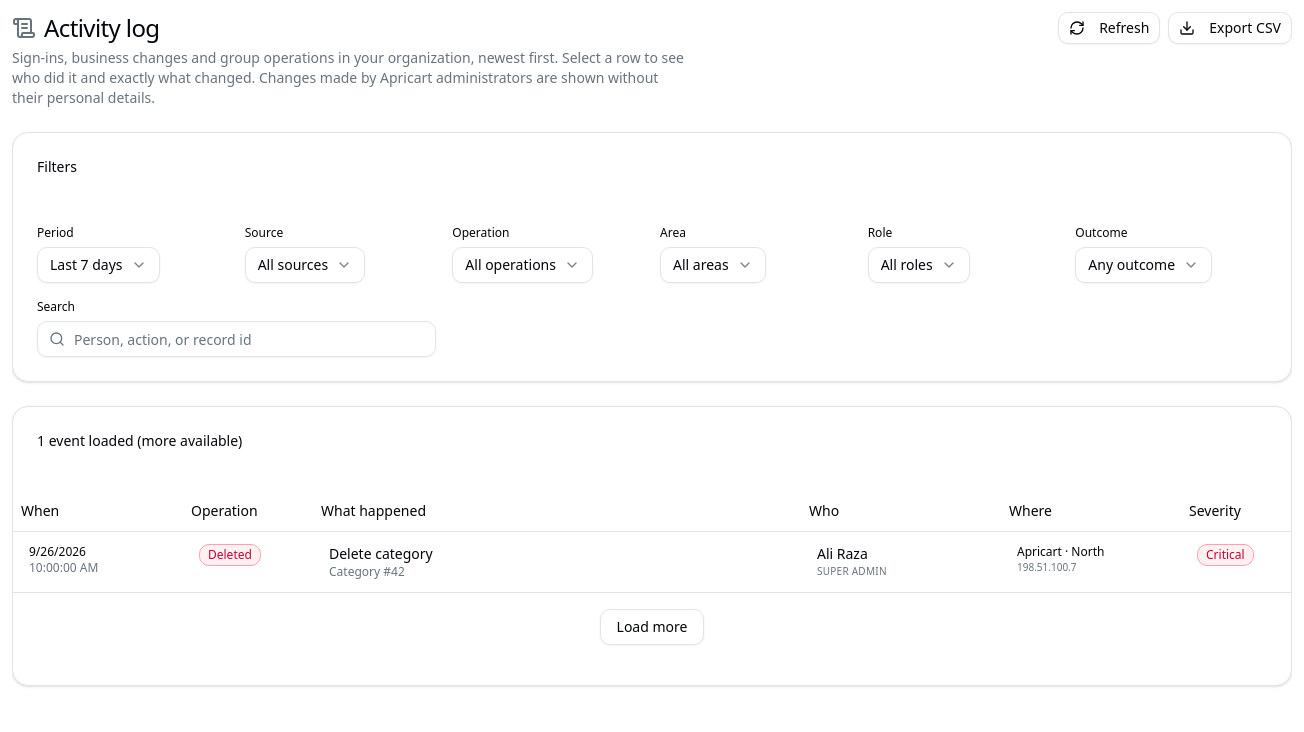
paging › appends the next page rather than replacing the first
Expected: the text "1 event loaded (more available)" is shown, [37,431,242,451]
Click the button "Load more" at coordinates (652, 626), box [600,608,704,644]
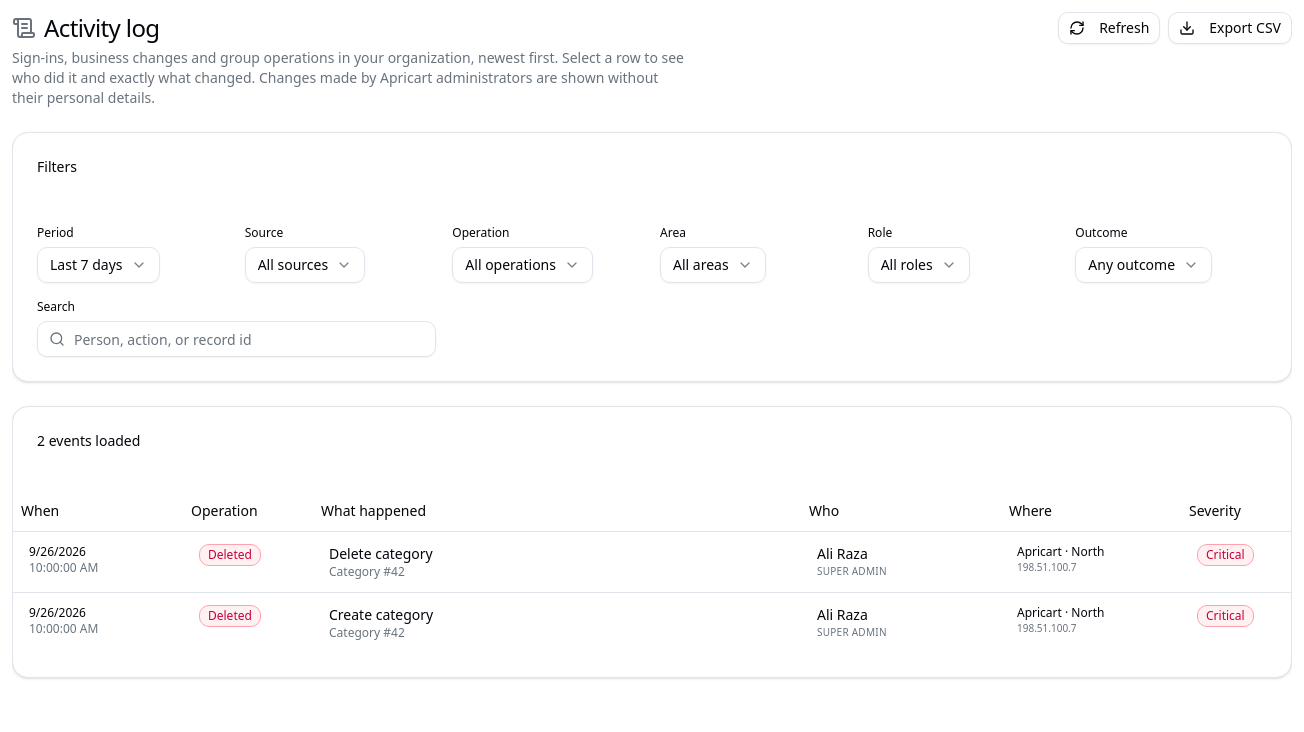
Expected: the text "Delete category" is shown, [329,544,433,562]
Now the text "2 events loaded" is shown, box [37,431,140,451]
Now the text "Create category" is shown, box [329,604,433,624]
